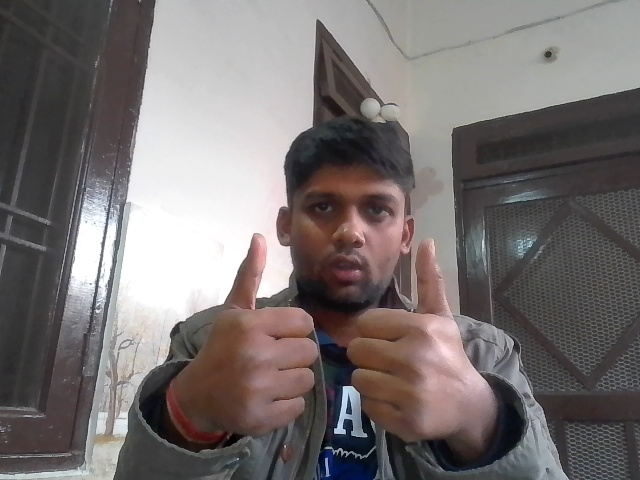Excellent: (198, 226, 480, 446)
